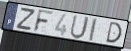4: (53, 13, 68, 37)
D: (105, 21, 123, 44)
F: (33, 9, 55, 34)
I: (89, 17, 99, 42)
U: (69, 15, 91, 40)
Z: (15, 7, 37, 32)
